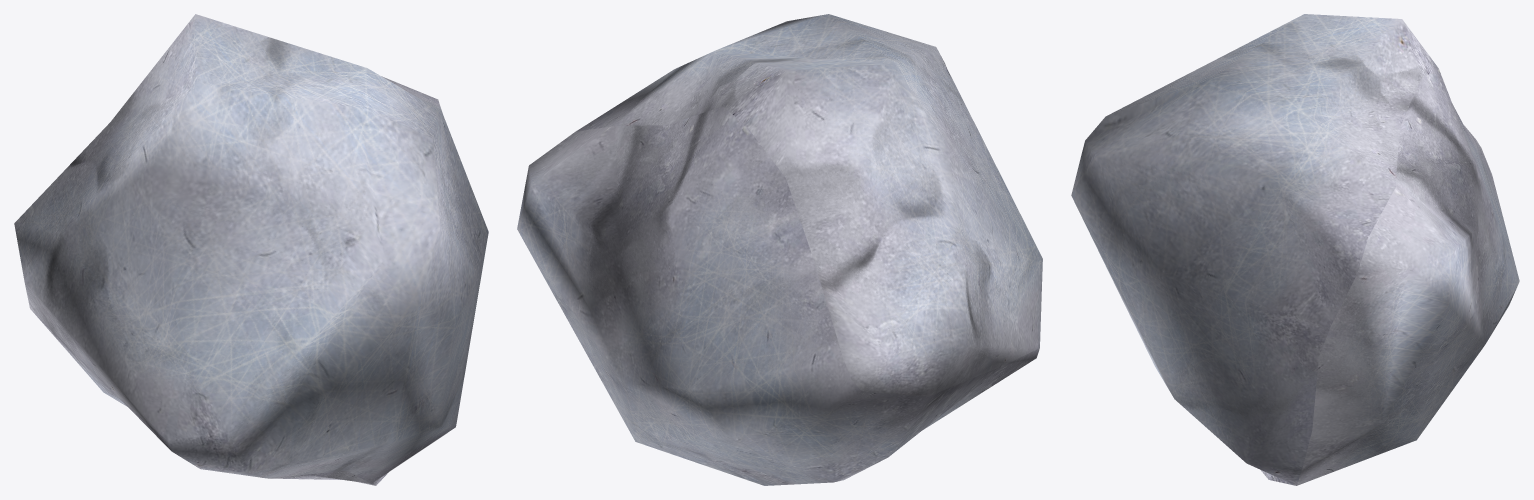
The model's file is PowerUp_FreezeFuz.fbx.
The picture shows the model from 3 angles, left to right: view 1: azimuth 30°, elevation 25°; view 2: azimuth 150°, elevation 25°; view 3: azimuth 270°, elevation 25°; orthographic projection. The views are drawn at different scales.
Visible parts, largest first — view 1: polySurface1; view 2: polySurface1; view 3: polySurface1.
Boxes of the visible parts, box(x1,y1,x2,y2) form: polySurface1: box(14, 14, 488, 485); polySurface1: box(517, 14, 1042, 485); polySurface1: box(1071, 14, 1519, 485).
Size of the model in its own units: 0.5978 by 0.6106 by 0.5999.
